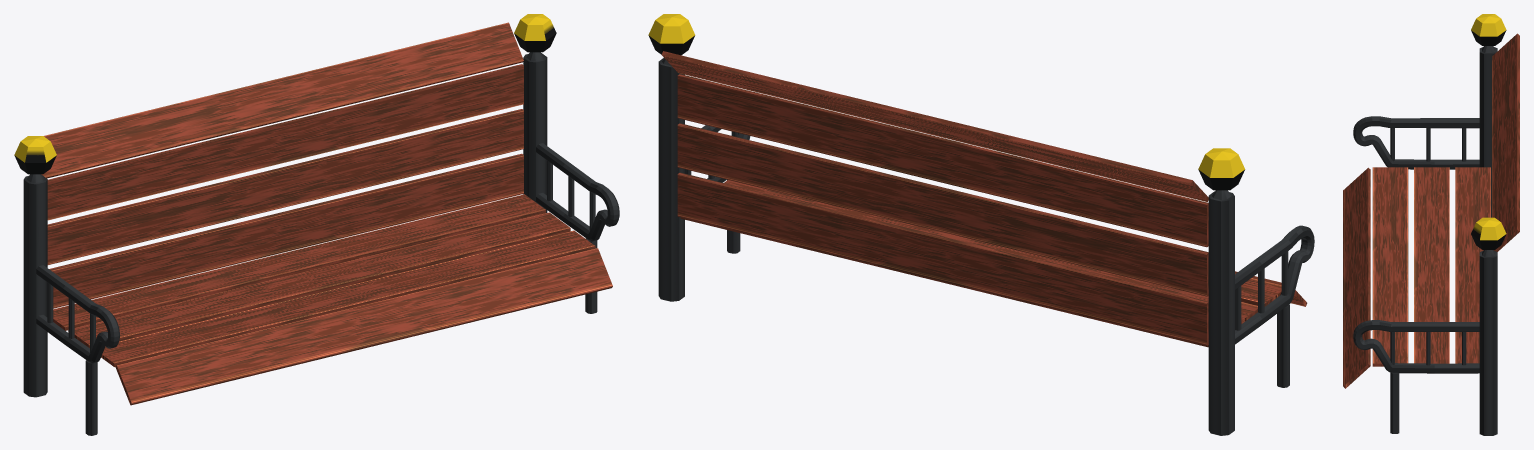
File: Bench01.fbx
3 renders of one model, left to right at view 1: azimuth 30°, elevation 25°; view 2: azimuth 150°, elevation 25°; view 3: azimuth 270°, elevation 25°, orthographic. The views are drawn at different scales.
Parts seen in each view (by area): view 1: Bench01; view 2: Bench01; view 3: Bench01.
Boxes of the visible parts, left/top/right/bottom form: Bench01: left=14, top=14, right=619, bottom=435; Bench01: left=648, top=14, right=1314, bottom=435; Bench01: left=1343, top=14, right=1519, bottom=435.
Size of the model in its own units: 1.8 by 0.6184 by 0.8179.
